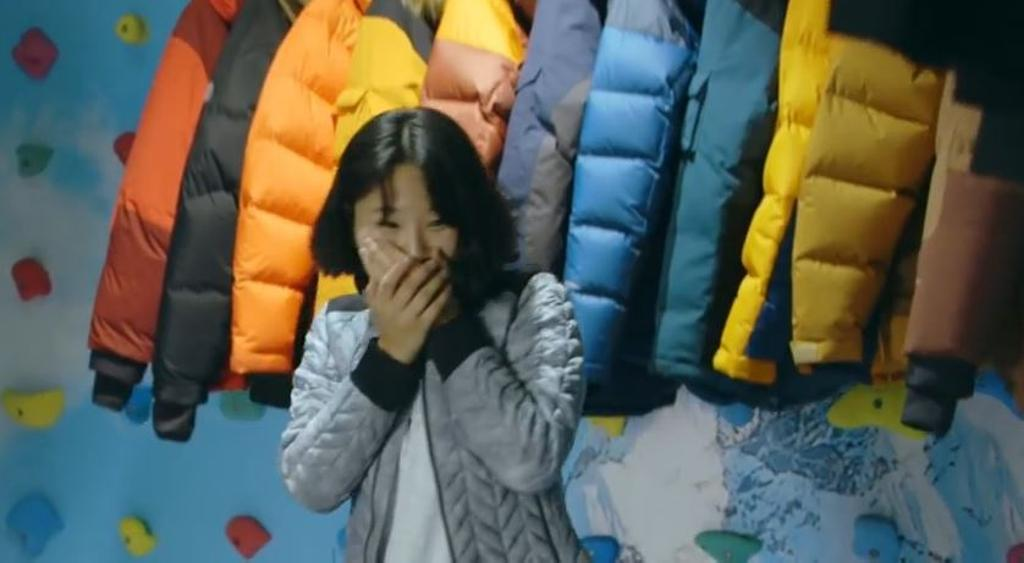face: (363, 185, 465, 287)
